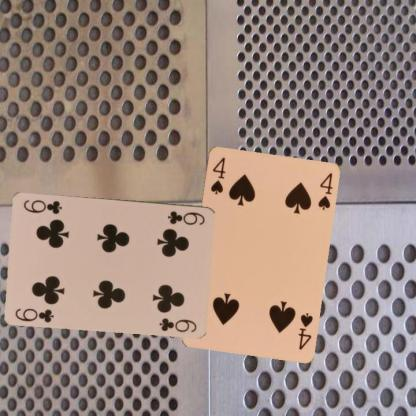4s: (208, 154, 226, 196), (296, 310, 314, 350)
6c: (13, 305, 56, 324), (166, 208, 206, 226)
